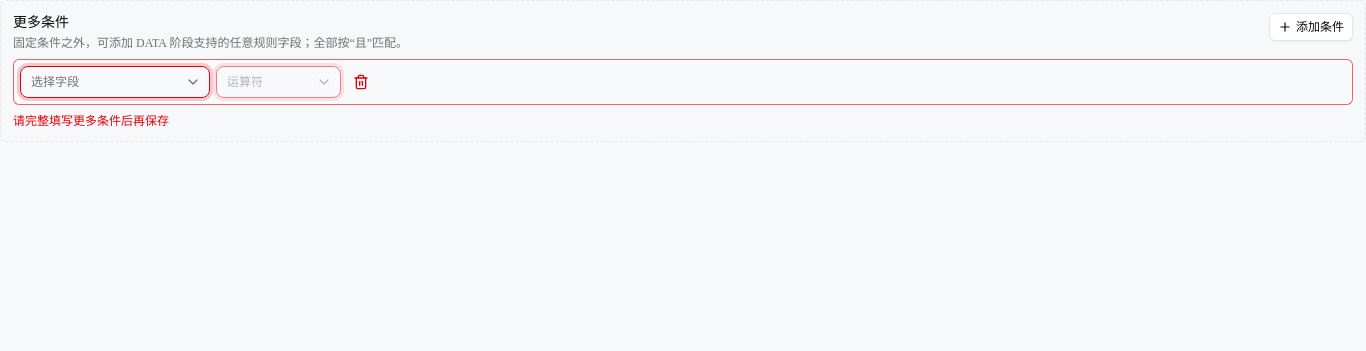
Test: CompactConditionEditor 枚举值输入（GT-12914） › 更多条件中的其它 route 字段名也使用中文文案
The width and height of the screenshot is (1366, 351).
Expected: the button with test id "mr-ob-rule-more-condition-add" is enabled, [1269,13,1353,41]
Step 1. Click the dropdown with test id "mr-ob-rule-more-condition-field-0" → (115, 82), box [20,66,210,98]
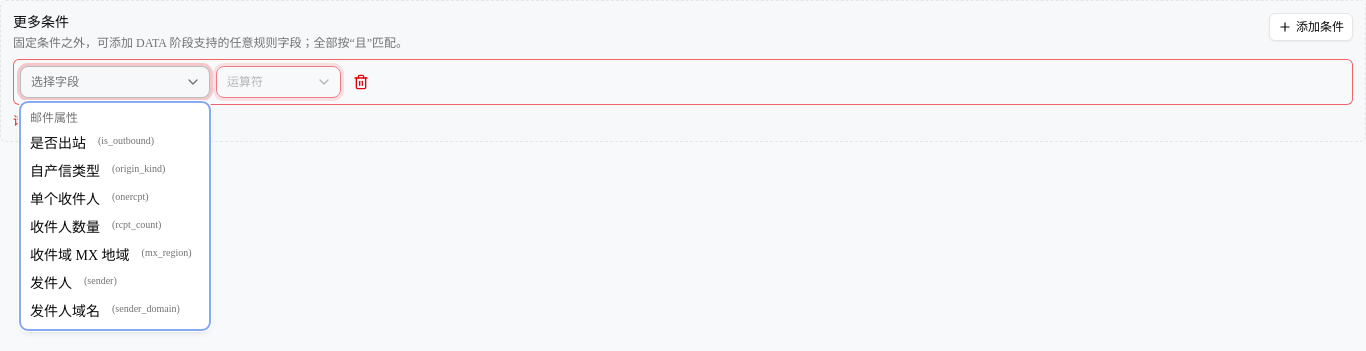
Result: the text "是否出站" is shown at [30,136,86,151]
Result: the text "单个收件人" is shown at [30,192,100,207]
Result: the text "自产信类型" is shown at [30,164,100,179]
